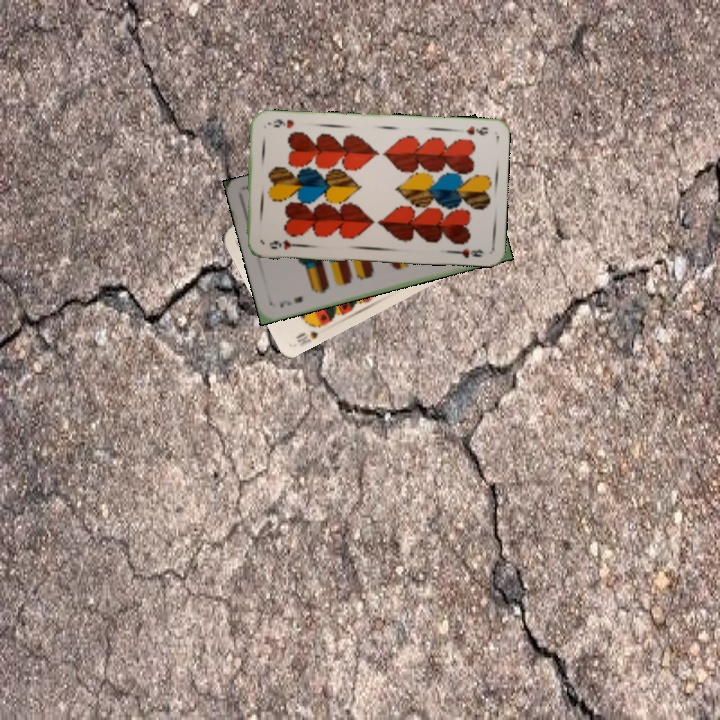E7: (276, 292, 305, 310)
H9: (265, 235, 301, 252), (462, 122, 490, 138)
S10: (292, 318, 327, 349)
